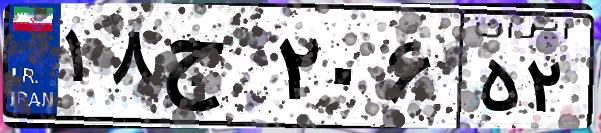0: (330, 28, 385, 110)
1: (57, 26, 110, 100)
2: (270, 28, 330, 110), (525, 38, 570, 115)
5: (475, 38, 525, 113)
6: (385, 28, 445, 110)
8: (110, 28, 158, 98)
ج: (158, 20, 270, 120)
